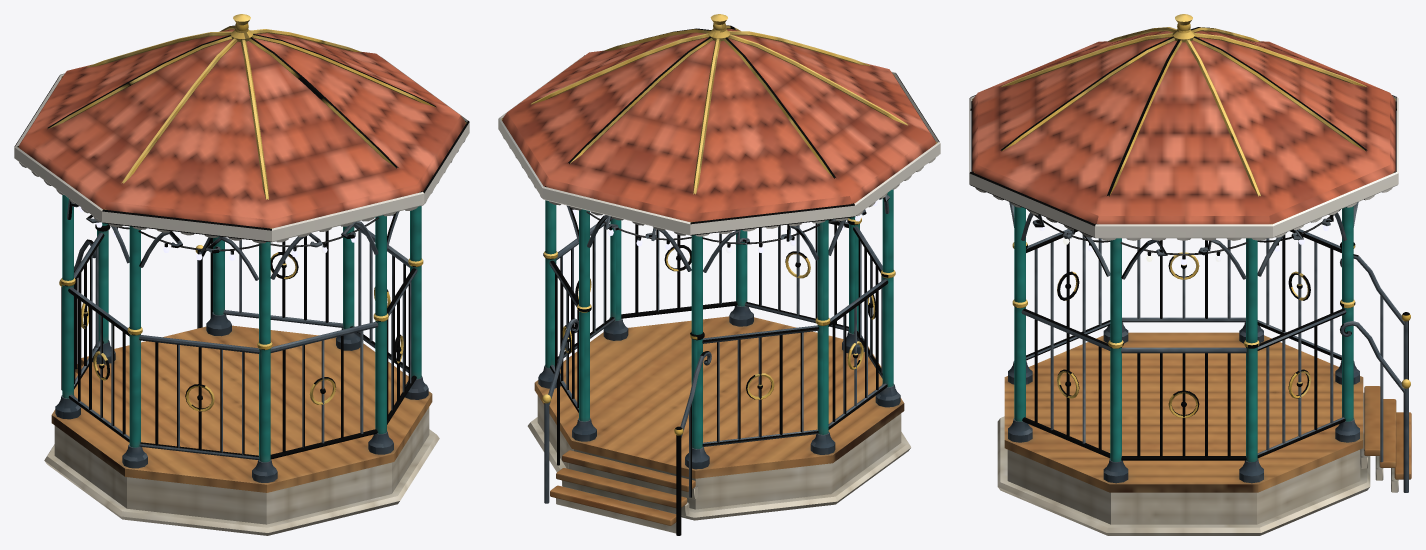
The model's file is gazebo.fbx.
3 renders of one model, left to right at view 1: azimuth 30°, elevation 25°; view 2: azimuth 150°, elevation 25°; view 3: azimuth 270°, elevation 25°, orthographic. The views are drawn at different scales.
Parts seen in each view (by area): view 1: Body; view 2: Body; view 3: Body.
Part boxes in pixels (box(x1,y1,x2,y2)): Body: box(14, 14, 469, 535); Body: box(498, 14, 940, 535); Body: box(969, 14, 1411, 535).
Bounding box in the file's own units: 2.81 × 3.23 × 2.89.
